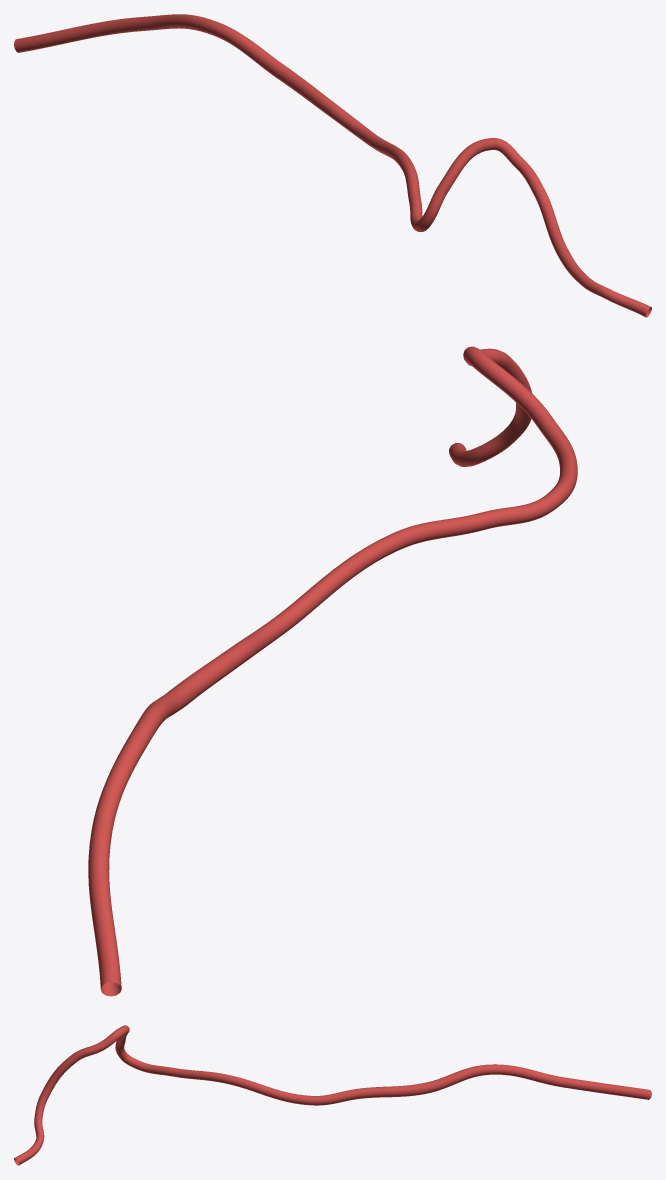
3 views of the same model, one above another, from view 1: azimuth 30°, elevation 25°; view 2: azimuth 150°, elevation 25°; view 3: azimuth 270°, elevation 25° (orthographic). The views are drawn at different scales.
Visible parts, largest first — view 1: 右侧椎动脉; view 2: 右侧椎动脉; view 3: 右侧椎动脉.
Part boxes in pixels (box(x1,y1,x2,y2)): 右侧椎动脉: box(14, 14, 651, 317); 右侧椎动脉: box(88, 346, 577, 996); 右侧椎动脉: box(14, 1025, 651, 1165).
Size of the model in its own units: 0.0635 by 0.0447 by 0.2341.
